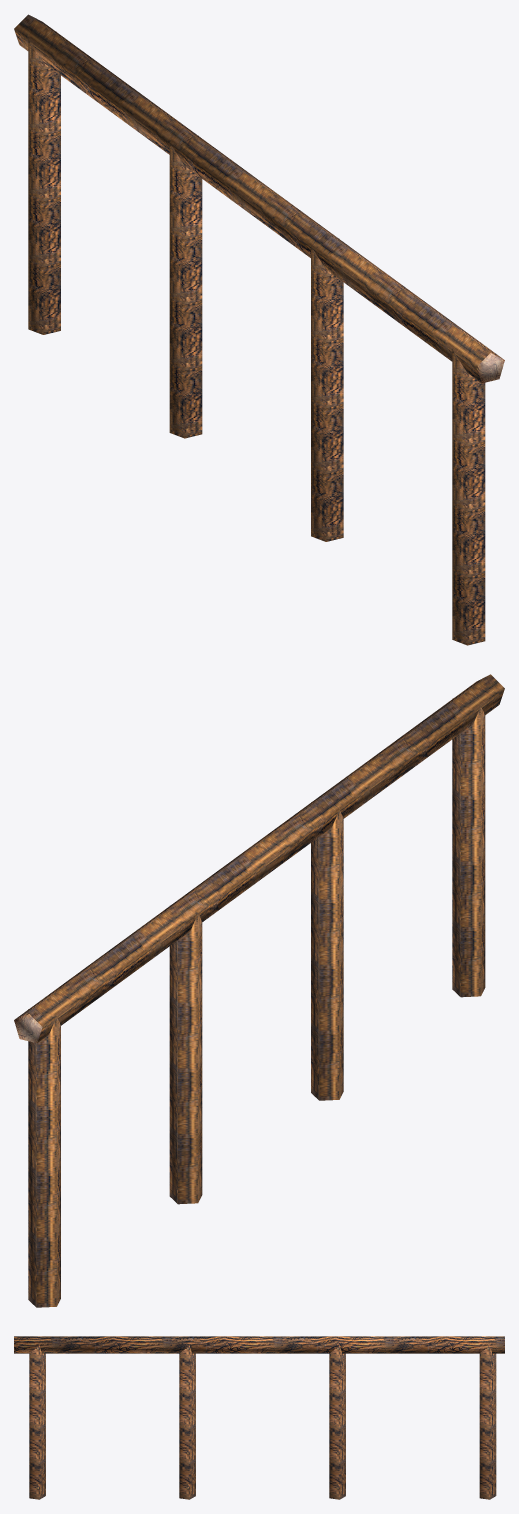
The model's file is dock_rail.fbx.
The picture shows the model from 3 angles, top to bottom: view 1: azimuth 30°, elevation 25°; view 2: azimuth 150°, elevation 25°; view 3: azimuth 270°, elevation 25°; orthographic projection. The views are drawn at different scales.
Visible parts, largest first — view 1: dock_railing; view 2: dock_railing; view 3: dock_railing.
Boxes of the visible parts, bbox=[...] form: dock_railing: bbox=[14, 14, 504, 645]; dock_railing: bbox=[14, 674, 504, 1307]; dock_railing: bbox=[14, 1336, 504, 1499].
Bounding box in the file's own units: 12.27 × 123 × 343.
1 material, 1 textured.
